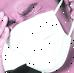with_mask: (1, 1, 74, 73)
